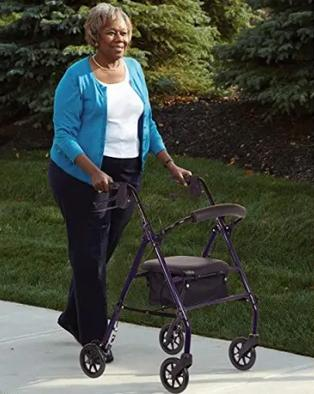walking_frame: (48, 2, 261, 394)
